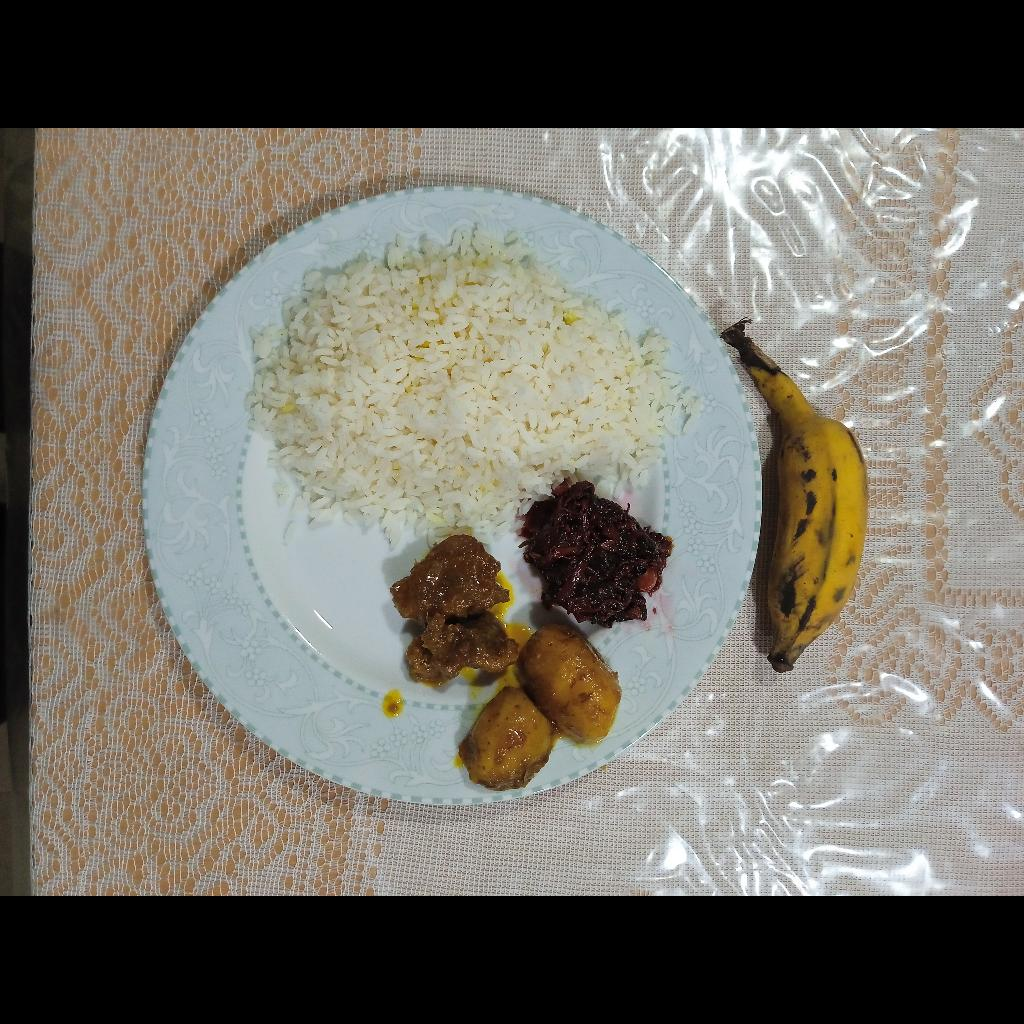banana: (735, 339, 867, 672)
beef: (398, 531, 521, 683)
potato: (454, 627, 623, 793)
rice: (257, 240, 685, 514)
shak: (519, 486, 674, 622)
